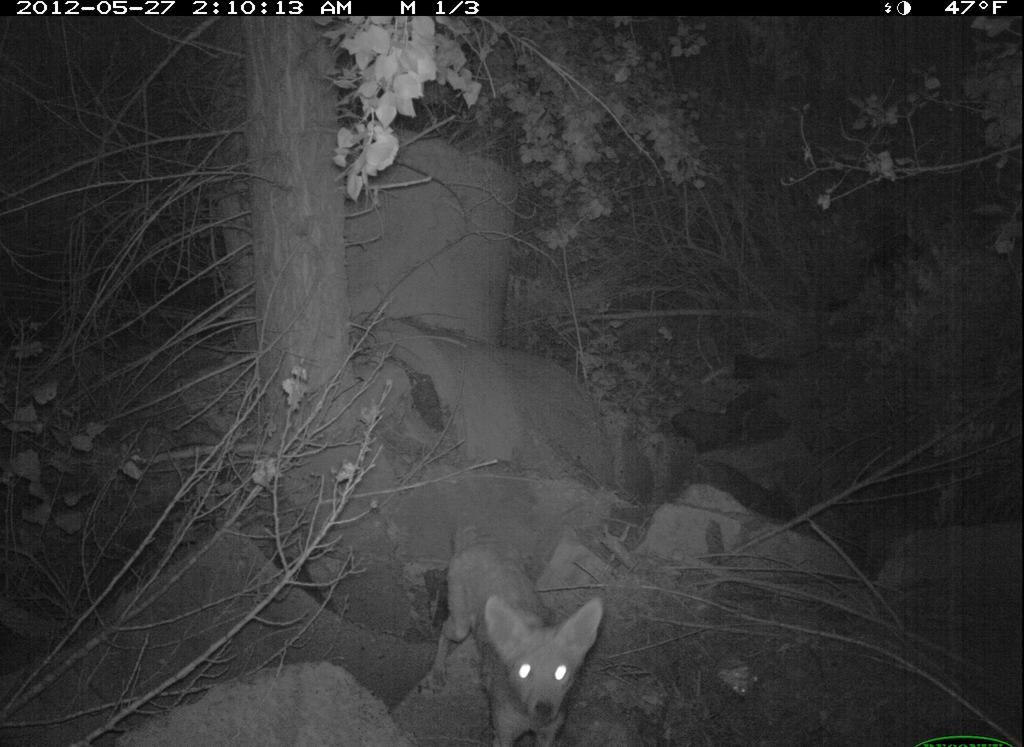coyote: (415, 492, 625, 744)
